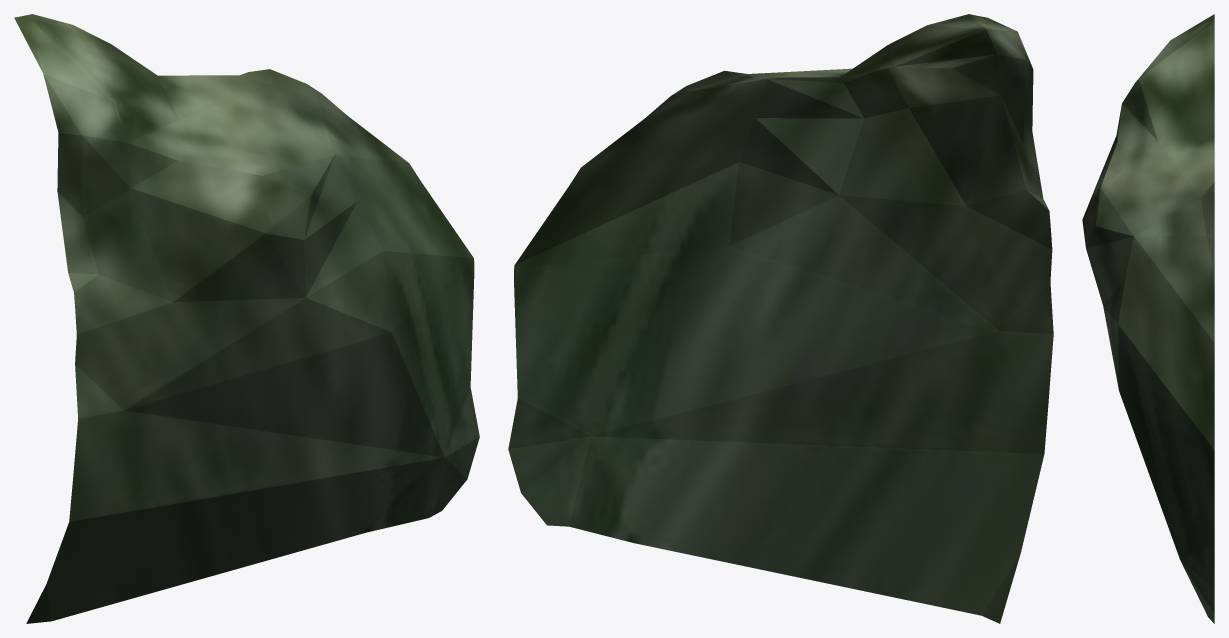
3 renders of one model, left to right at view 1: azimuth 30°, elevation 25°; view 2: azimuth 150°, elevation 25°; view 3: azimuth 270°, elevation 25°, orthographic. The views are drawn at different scales.
Bounding box in the file's own units: 1.06 × 1.29 × 0.3432.
1 material, 1 textured.
